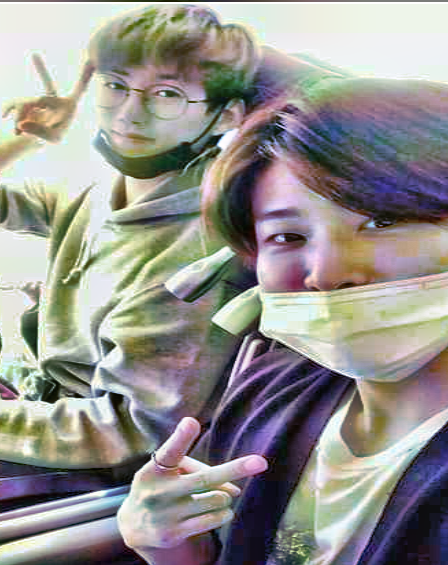mask_weared_incorrect: (228, 79, 448, 386), (80, 5, 255, 180)
